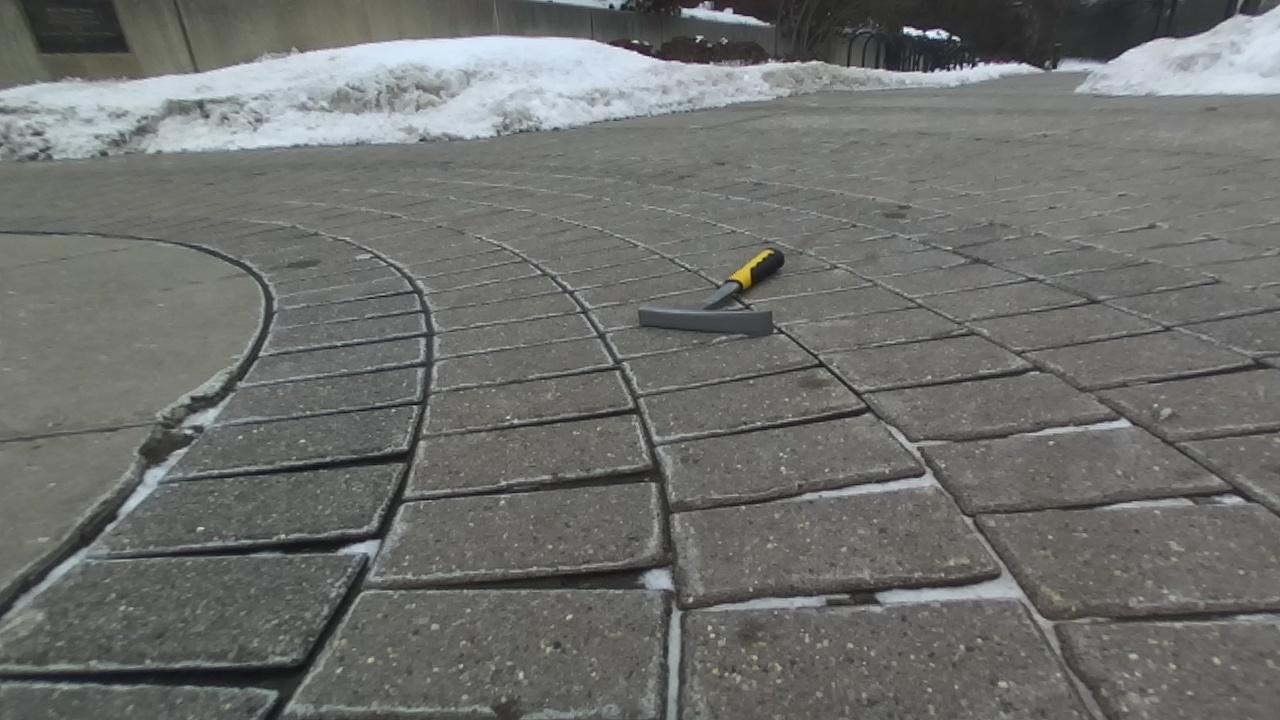pick: (639, 248, 784, 335)
